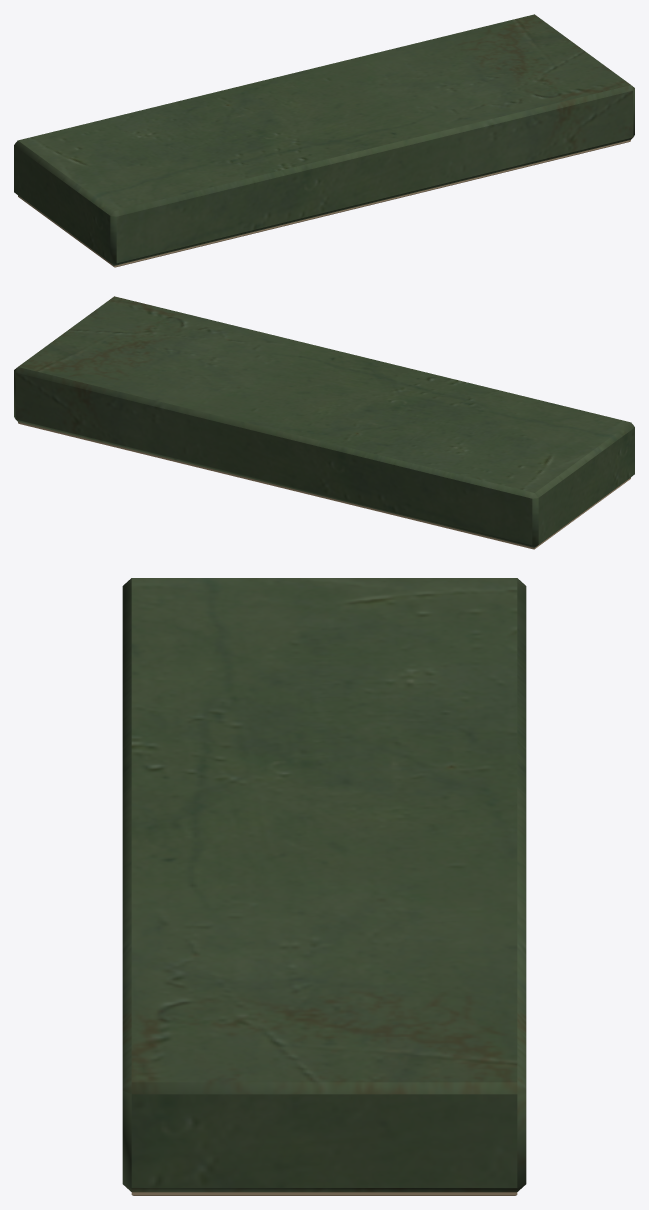
The model's file is SM_Lamp_01.fbx.
3 views of the same model, one above another, from view 1: azimuth 30°, elevation 25°; view 2: azimuth 150°, elevation 25°; view 3: azimuth 270°, elevation 25° (orthographic). The views are drawn at different scales.
Parts seen in each view (by area): view 1: Lamp_01.001; view 2: Lamp_01.001; view 3: Lamp_01.001.
Part boxes in pixels (<box>): Lamp_01.001: <box>14,14,634,267</box>; Lamp_01.001: <box>14,296,634,549</box>; Lamp_01.001: <box>122,578,526,1195</box>.
Bounding box in the file's own units: 0.6 × 0.2 × 0.0626.
